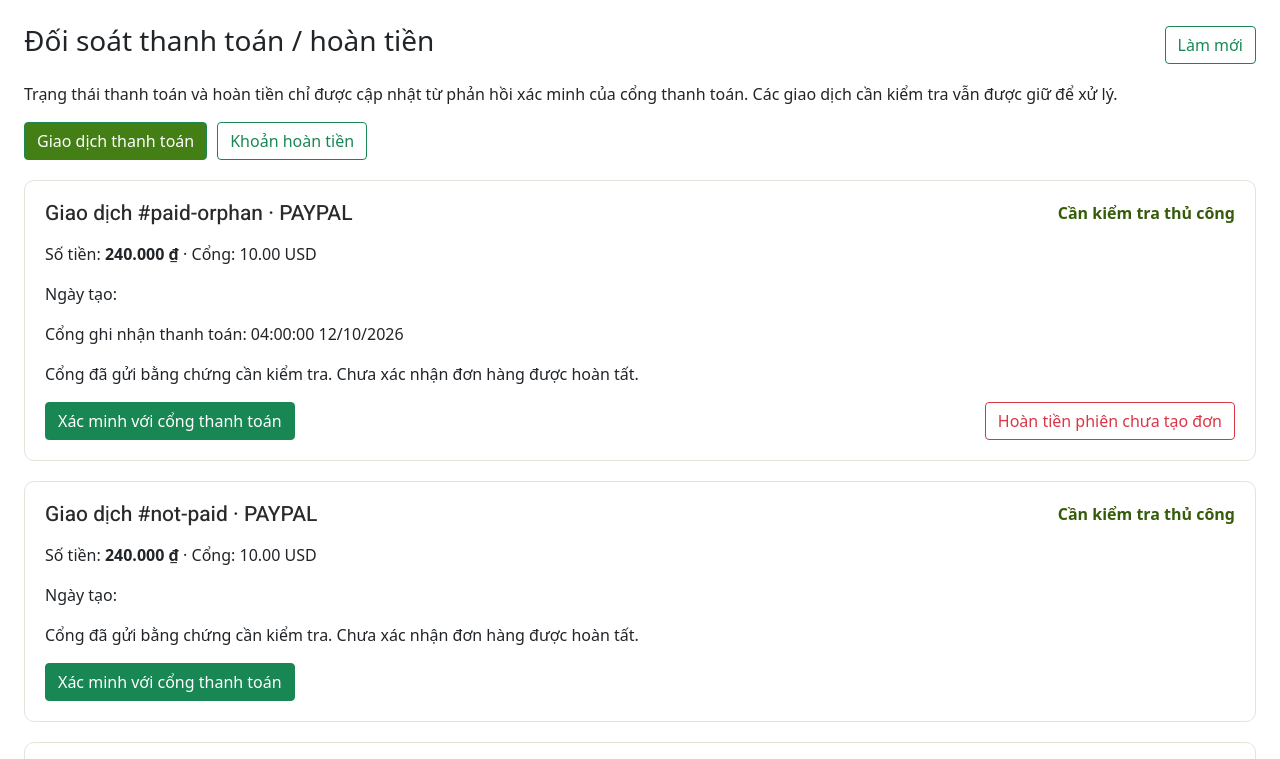
only a paid orphaned review session can request a refund and reason is required
Click the button "Hoàn tiền phiên chưa tạo đơn" at (1110, 421), box top-left (985, 402), bottom-right (1235, 440)
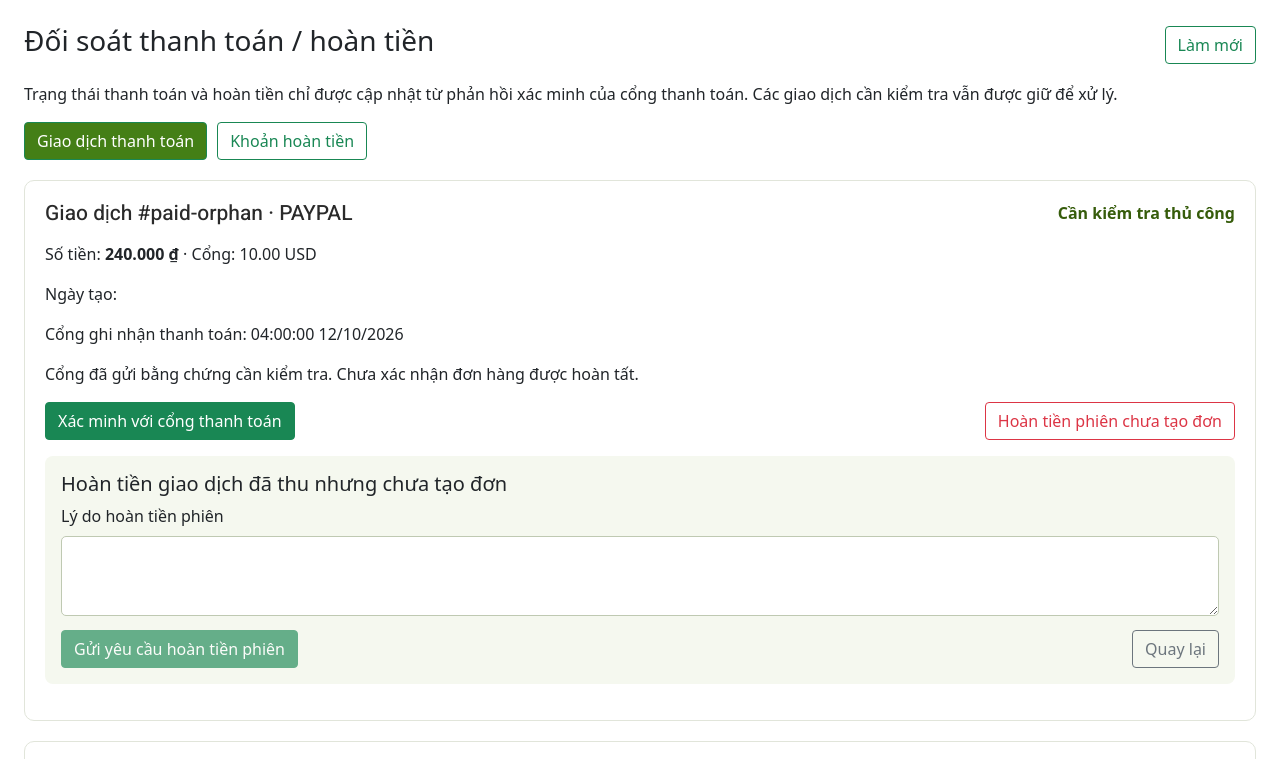
Result: the button "Gửi yêu cầu hoàn tiền phiên" is disabled at top-left (61, 630), bottom-right (298, 668)
Type " Phiên hết hạn sau khi khách trả tiền " into the text box labelled "Lý do hoàn tiền phiên" at (640, 576), box top-left (61, 536), bottom-right (1219, 616)
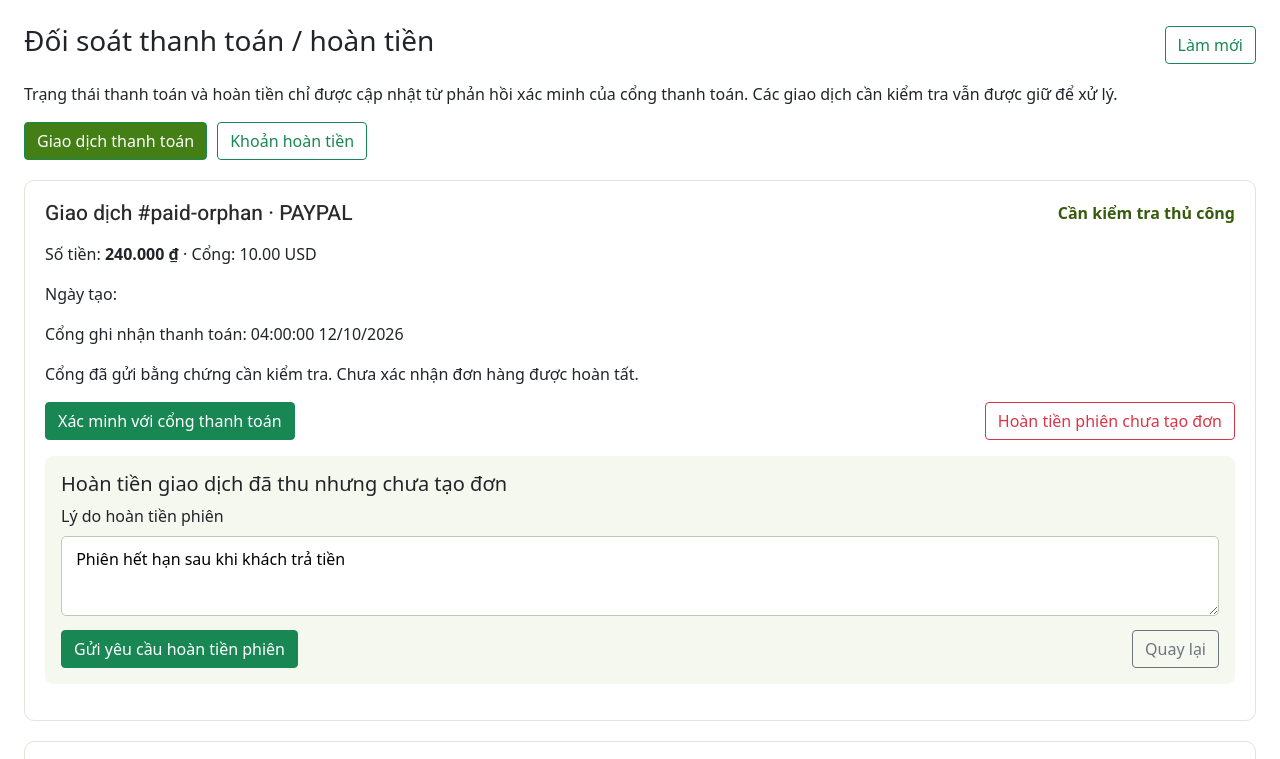
Click the button "Gửi yêu cầu hoàn tiền phiên" at (180, 649), box top-left (61, 630), bottom-right (298, 668)
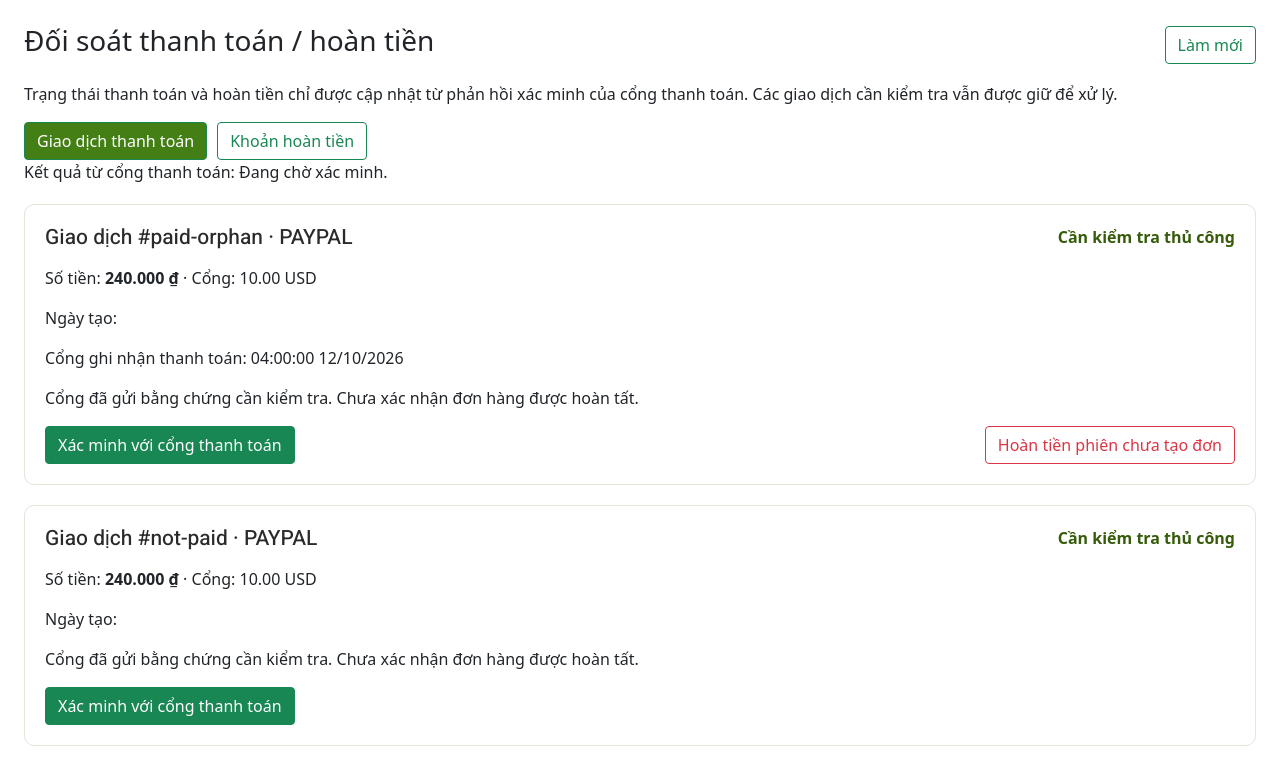
Result: the text "Kết quả từ cổng thanh toán: Đang chờ xác minh." is shown at top-left (24, 161), bottom-right (388, 183)
